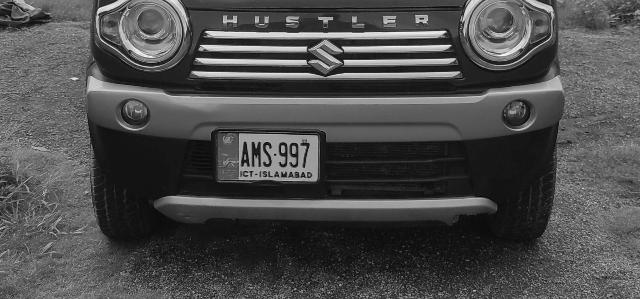Number: (240, 140, 314, 170)
